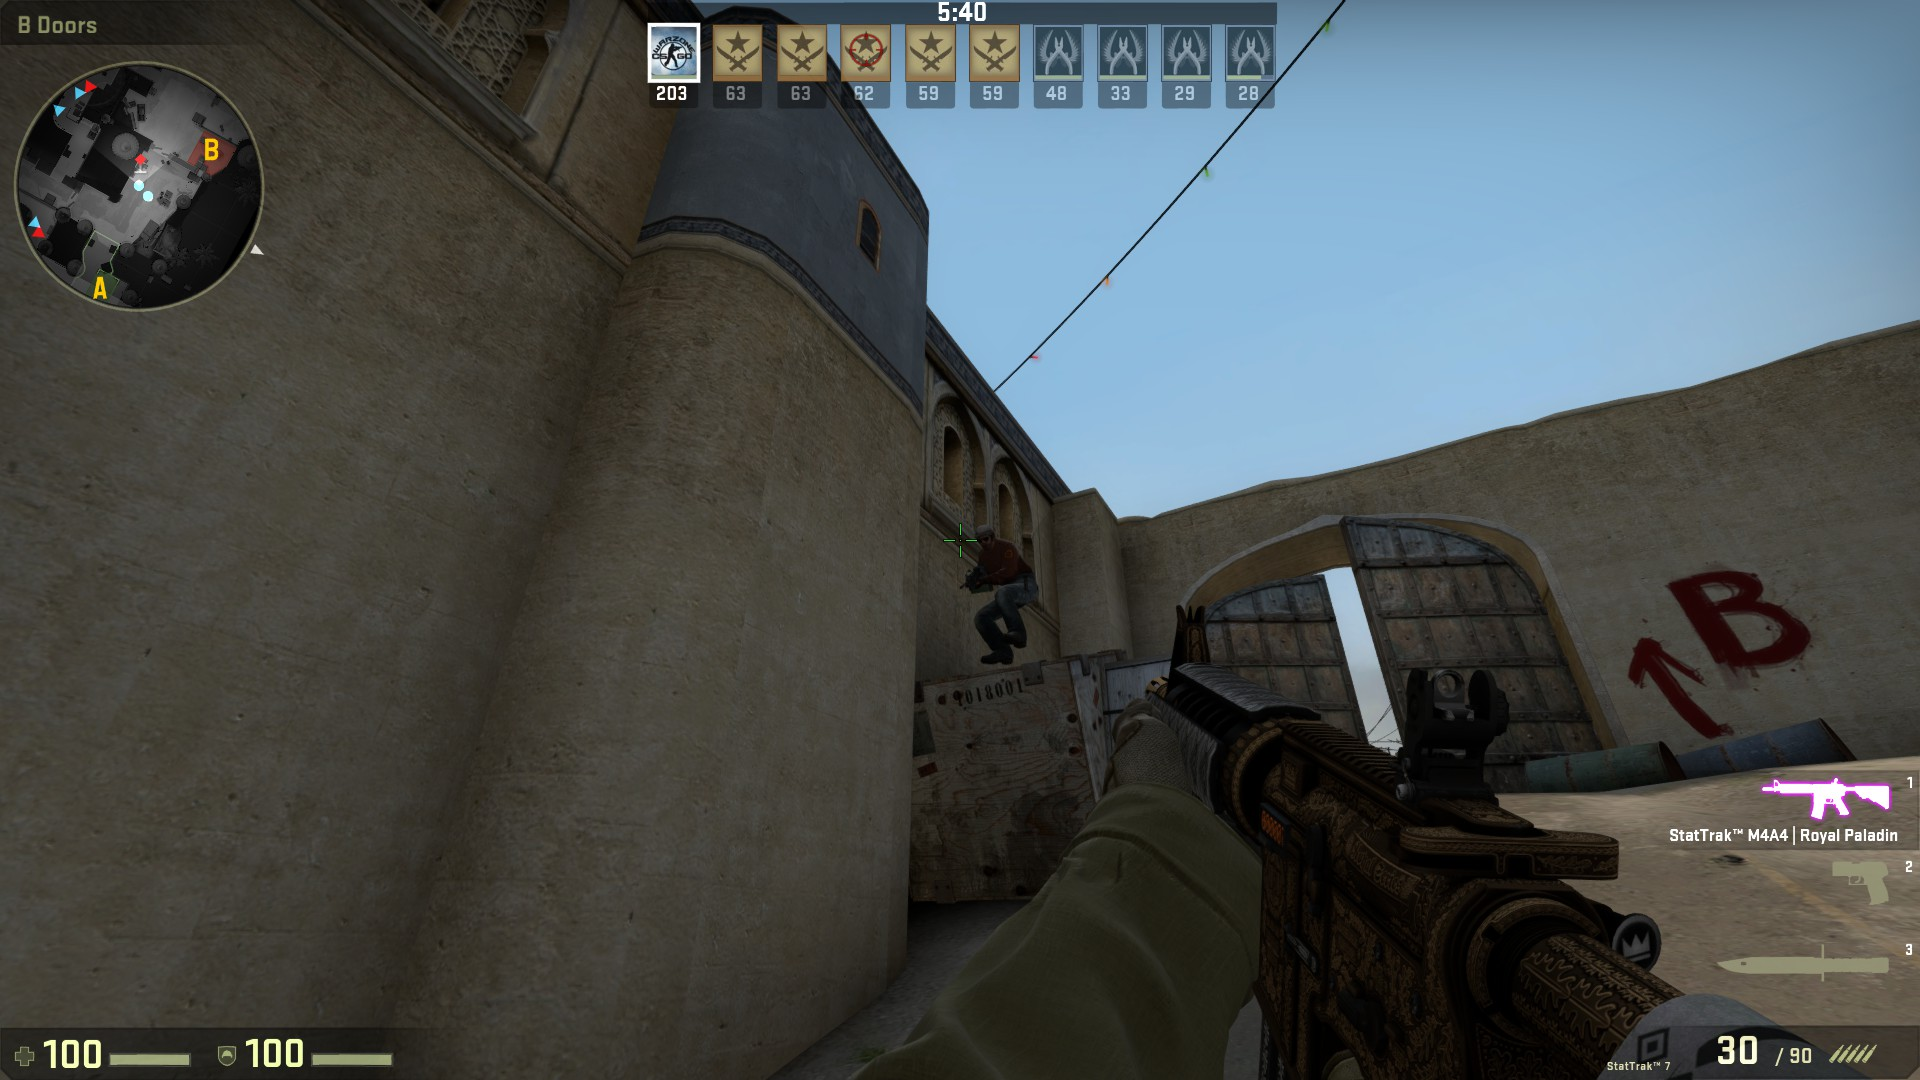t: (968, 524, 1036, 665)
th: (972, 524, 1000, 556)
